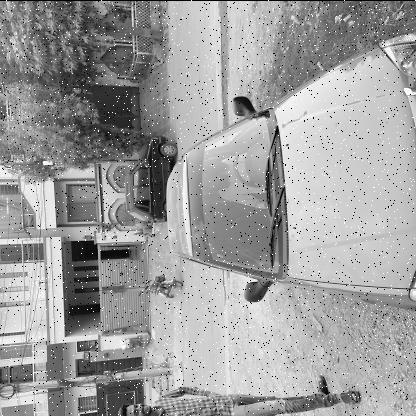no_seatbelt: (201, 154, 259, 192)
